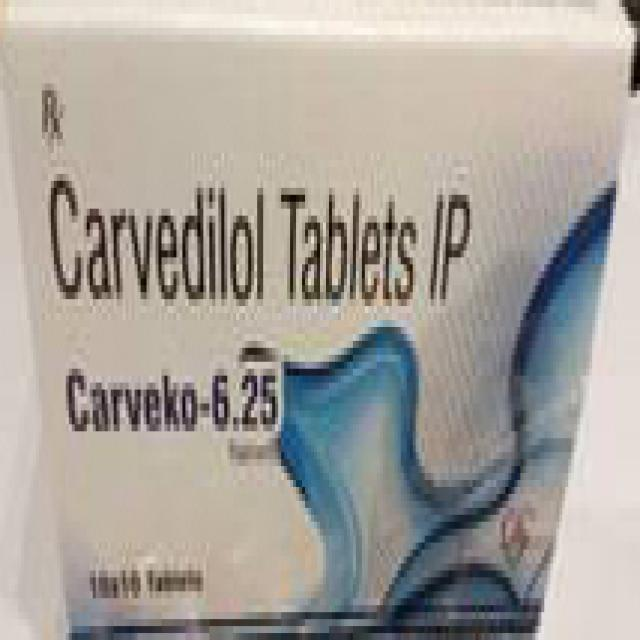drug-name: (46, 168, 271, 322)
